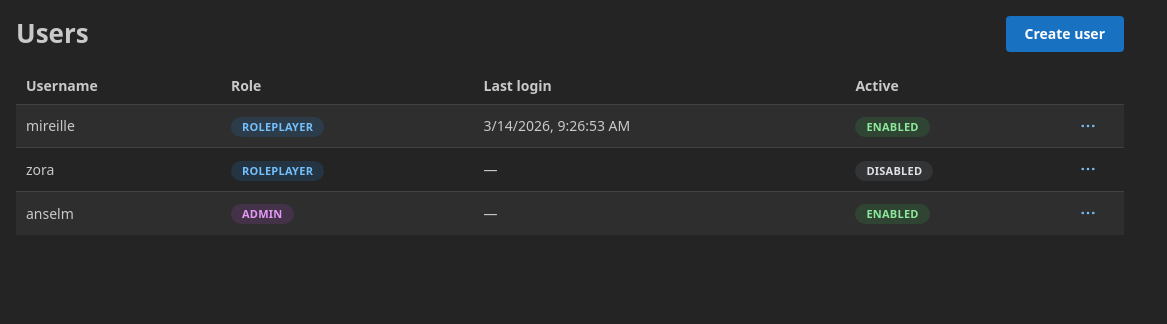
Test: the row overflow menu › the icon-only control opens a disabled account's menu, whose entries are labelled text — DoD-8
Click the submit button at (1088, 169), box [1074,155,1102,183]
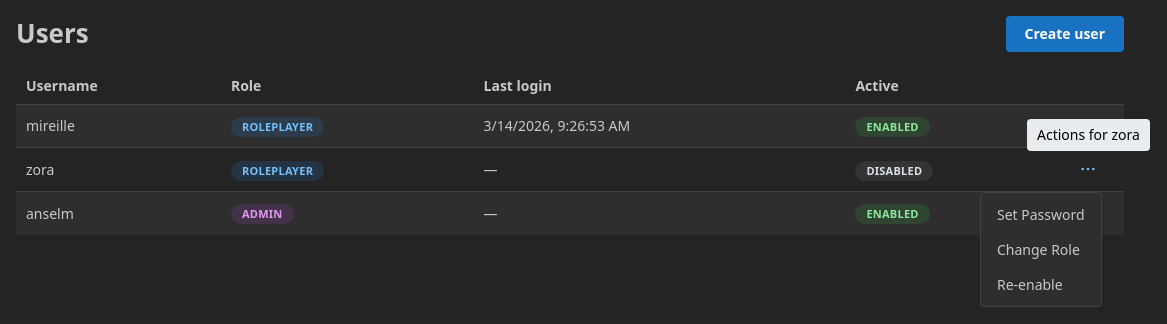
Expected: the menu item "Set Password" is shown, [985,197,1097,232]
